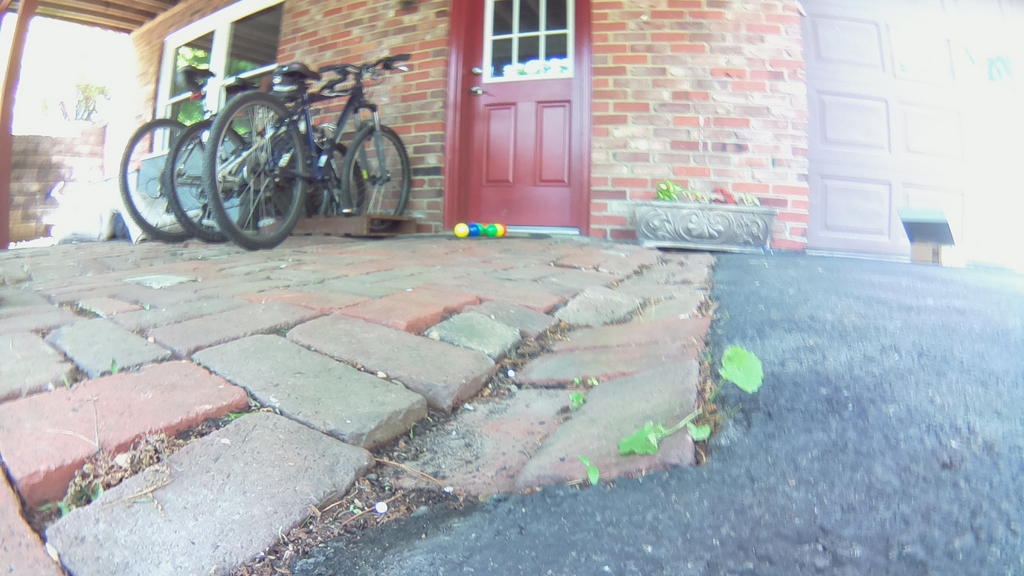ball: (486, 224, 496, 238)
